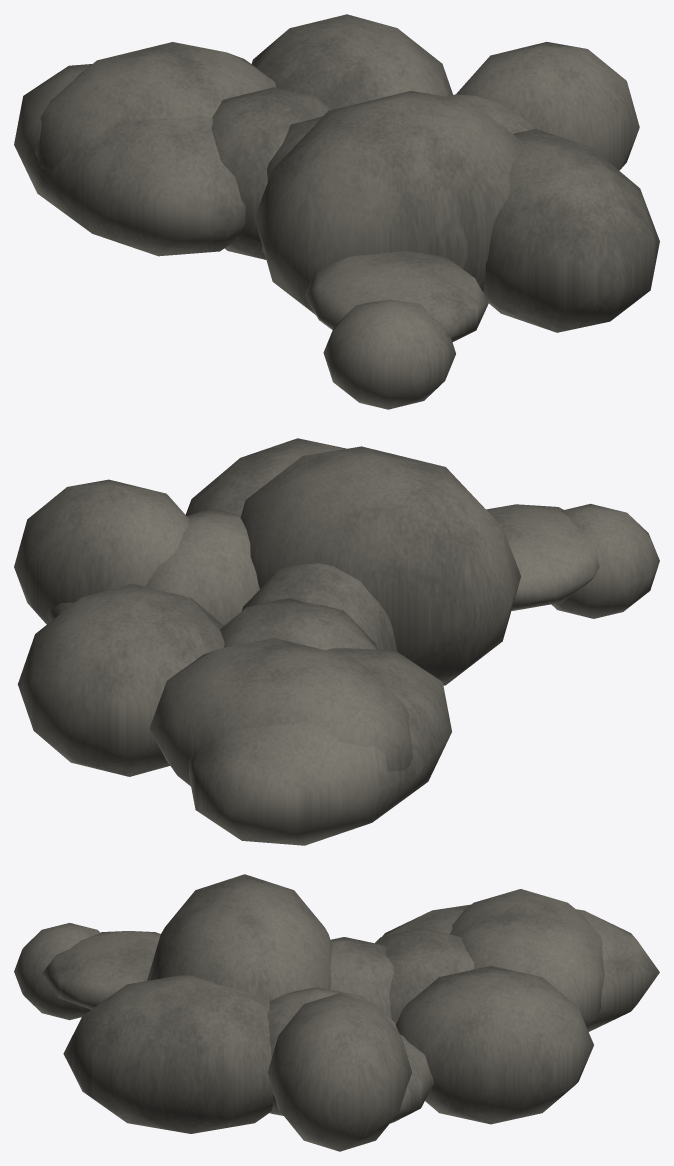
Rendered from HILL_RockShoulder_Cluster.obj.
The picture shows the model from 3 angles, top to bottom: view 1: azimuth 30°, elevation 25°; view 2: azimuth 150°, elevation 25°; view 3: azimuth 270°, elevation 25°; orthographic projection. The views are drawn at different scales.
Visible parts, largest first — view 1: HILL_RockShoulder_Cluster; view 2: HILL_RockShoulder_Cluster; view 3: HILL_RockShoulder_Cluster.
Boxes of the visible parts, x1,y1,x2,y2 form: HILL_RockShoulder_Cluster: (14, 14, 659, 409); HILL_RockShoulder_Cluster: (14, 438, 659, 845); HILL_RockShoulder_Cluster: (14, 874, 659, 1151).
Size of the model in its own units: 1.6 by 0.7347 by 2.16.
Materials: 1 (1 with a texture image).
